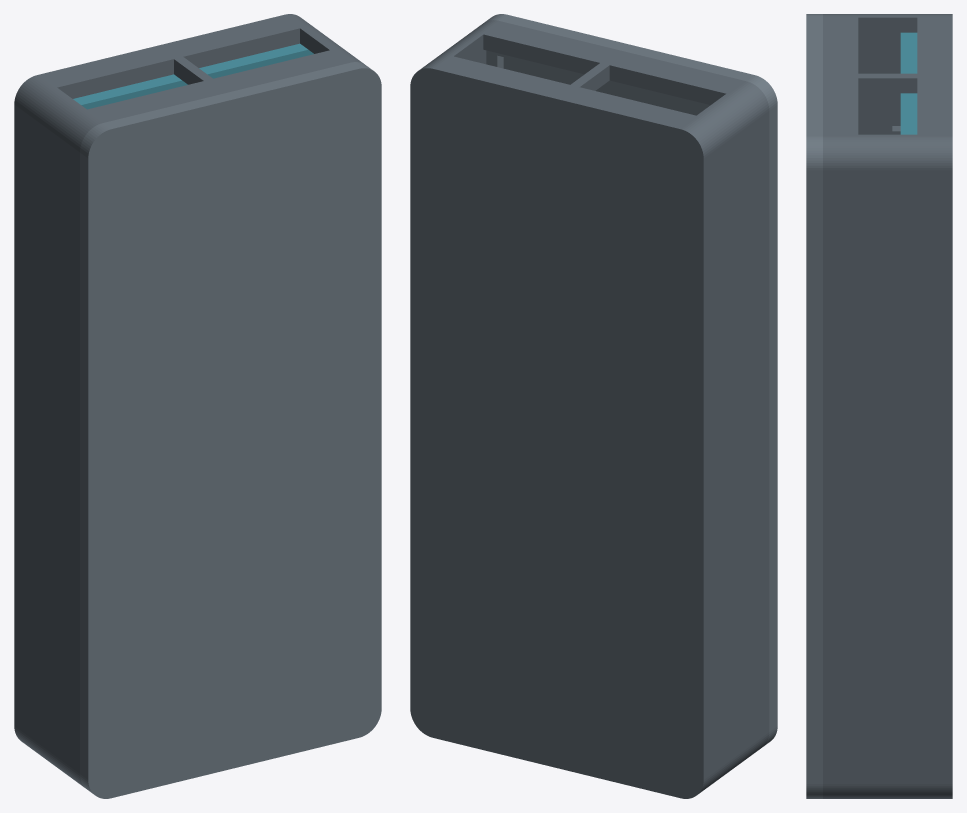
The model's file is easyduino-esp32s3_assembly.glb.
3 renders of one model, left to right at view 1: azimuth 30°, elevation 25°; view 2: azimuth 150°, elevation 25°; view 3: azimuth 270°, elevation 25°, orthographic.
Parts seen in each view (by area): view 1: lid, bottom, board_proxy; view 2: bottom, lid; view 3: bottom, lid, board_proxy.
Boxes of the visible parts, x1,y1,x2,y2 form: lid: (80, 62, 381, 798); bottom: (14, 14, 363, 787); board_proxy: (73, 43, 313, 109); bottom: (410, 20, 769, 798); lid: (485, 14, 777, 745); bottom: (823, 14, 952, 798); lid: (806, 14, 822, 798); board_proxy: (900, 32, 917, 134).
Bounding box in the file's own units: 32.26 × 70.3 × 14.1.
